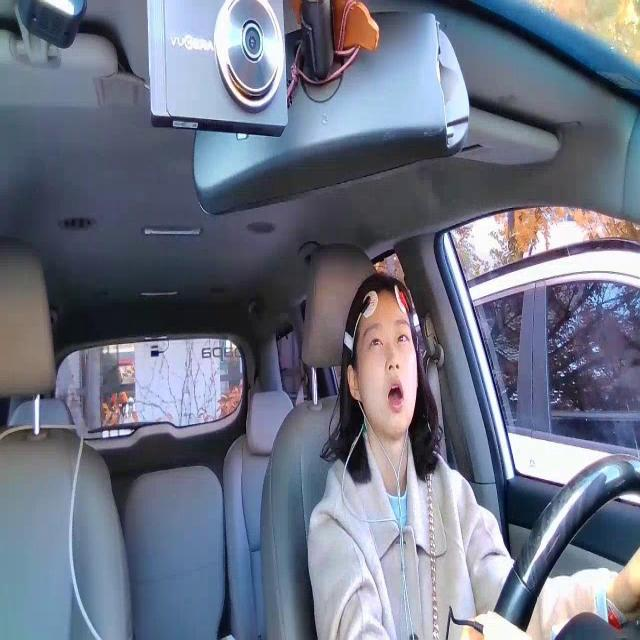Inattentive: (343, 275, 419, 442)
Yawning: (386, 379, 404, 412)
